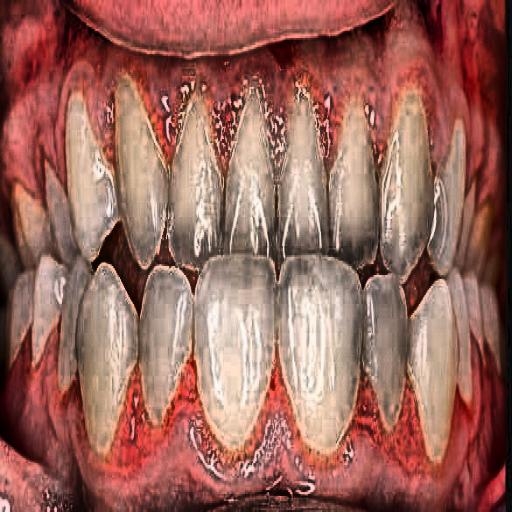Gingivitis: (10, 358, 480, 512), (4, 24, 512, 138)
